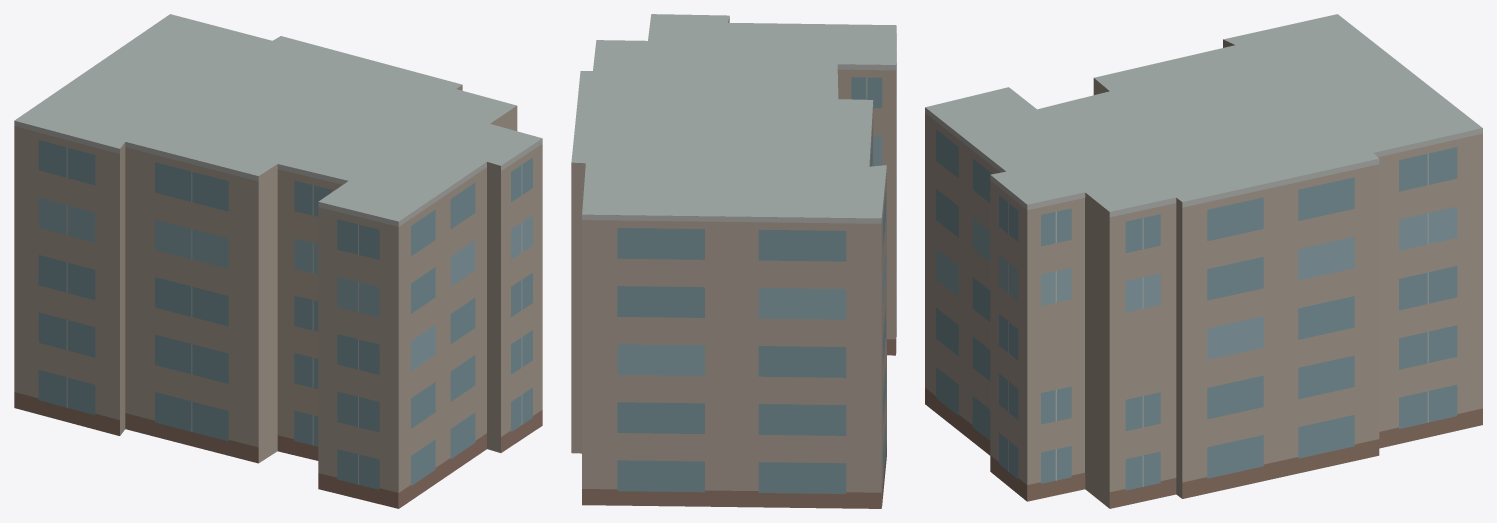
The model's file is survey-upis-32622246.glb.
3 renders of one model, left to right at view 1: azimuth 30°, elevation 25°; view 2: azimuth 150°, elevation 25°; view 3: azimuth 270°, elevation 25°, orthographic. The views are drawn at different scales.
Parts seen in each view (by area): view 1: survey-upis-32622246.tmp; view 2: survey-upis-32622246.tmp; view 3: survey-upis-32622246.tmp.
Part boxes in pixels (x1,y1,x2,y2): survey-upis-32622246.tmp: (14,14,542,508); survey-upis-32622246.tmp: (571,14,896,508); survey-upis-32622246.tmp: (925,14,1482,508).
Bounding box in the file's own units: 18.89 × 13.2 × 22.48.
